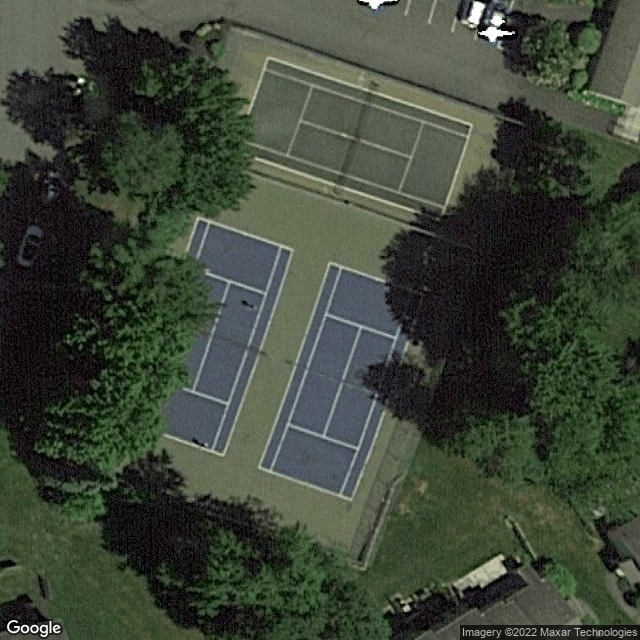Court: (257, 260, 428, 505), (233, 53, 472, 226), (127, 217, 293, 456)
